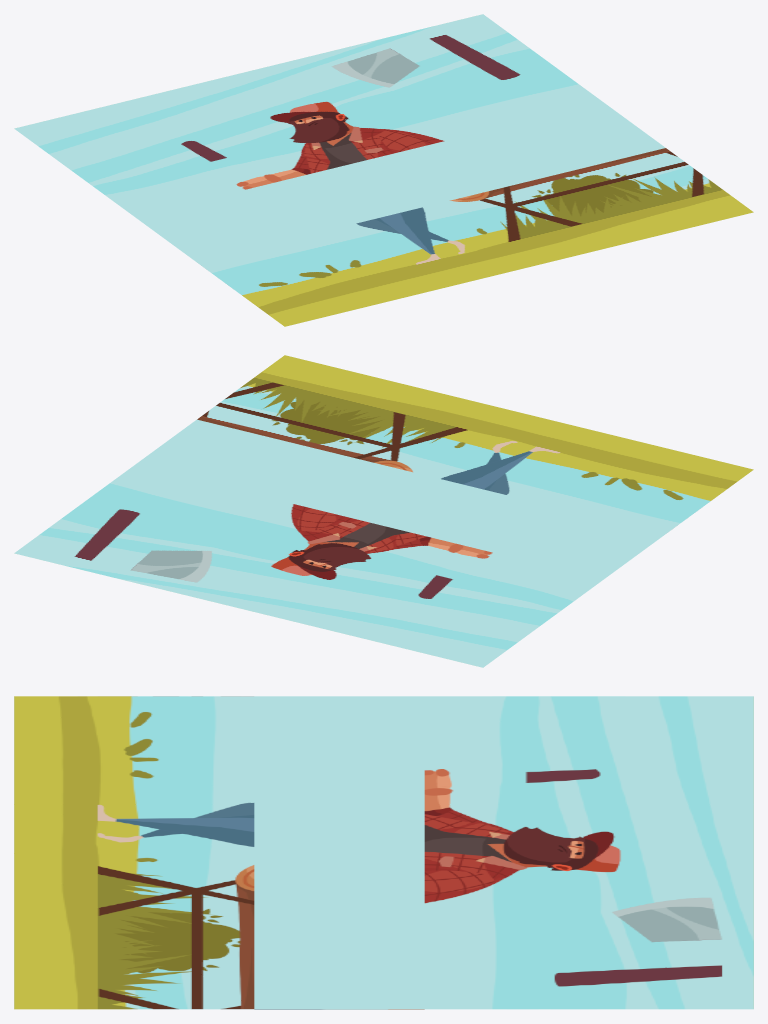
File: Level 108 Roll Wine Glass.fbx
3 renders of one model, top to bottom at view 1: azimuth 30°, elevation 25°; view 2: azimuth 150°, elevation 25°; view 3: azimuth 270°, elevation 25°, orthographic. The views are drawn at different scales.
Visible parts, largest first — view 1: Mesh, Blend; view 2: Mesh, Blend; view 3: Mesh, Blend.
Boxes of the visible parts, x1,y1,x2,y2 form: Mesh: [14, 14, 753, 326]; Blend: [297, 102, 665, 222]; Mesh: [14, 355, 753, 667]; Blend: [135, 419, 503, 539]; Mesh: [14, 696, 753, 1009]; Blend: [254, 804, 424, 1009].
Bounding box in the file's own units: 2400 × 1 × 2400.
